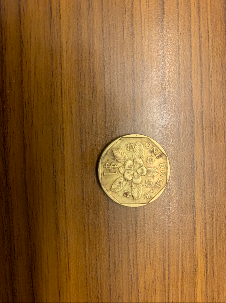Nonfood: (92, 126, 177, 213)
